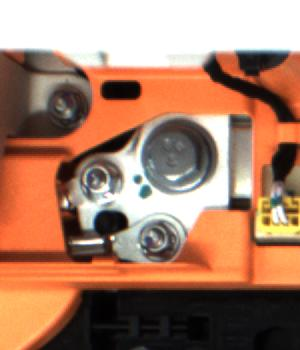nut_b: (134, 114, 220, 197)
screw_s: (141, 219, 190, 266), (74, 162, 126, 200), (43, 88, 78, 126)
